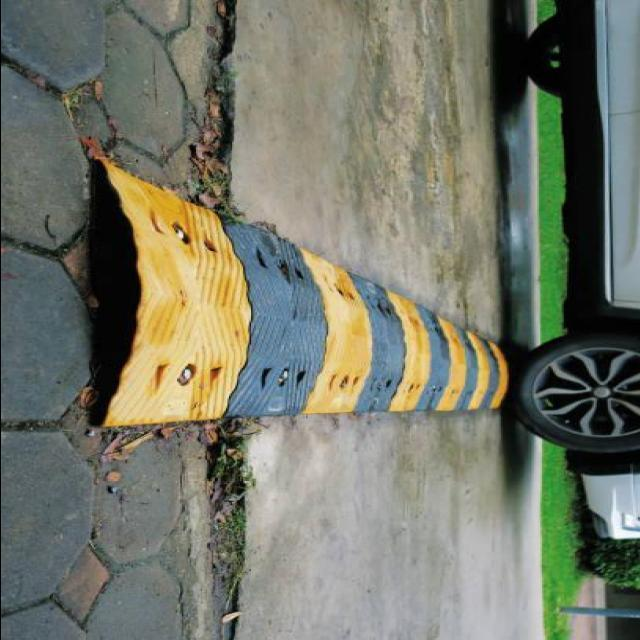speedbreaker: (64, 181, 514, 449)
